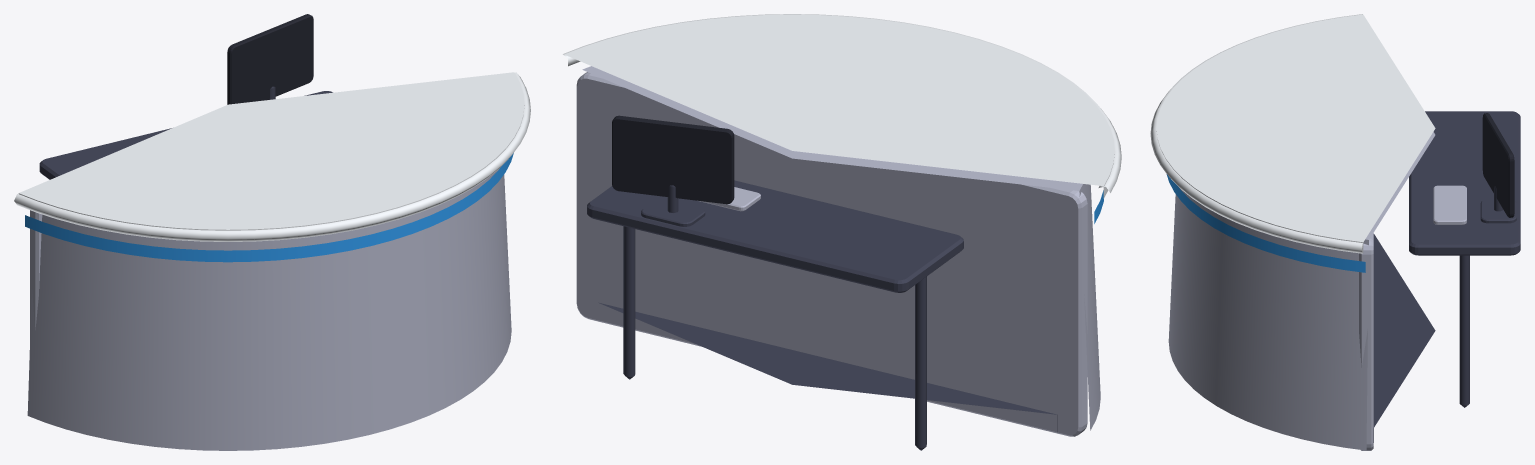
Rendered from reception_desk.glb.
The picture shows the model from 3 angles, left to right: view 1: azimuth 30°, elevation 25°; view 2: azimuth 150°, elevation 25°; view 3: azimuth 270°, elevation 25°; orthographic projection. The views are drawn at different scales.
Parts seen in each view (by area): view 1: desk_body, desk_top, desk_top_bullnose, desk_accent_band, desk_monitor, desk_worktop, desk_back_panel; view 2: desk_back_panel, desk_top, desk_worktop, desk_monitor, desk_kick, desk_body, desk_worktop_leg_l, desk_worktop_leg_r, desk_top_bullnose, desk_monitor_foot, desk_keyboard; view 3: desk_top, desk_body, desk_worktop, desk_kick, desk_top_bullnose, desk_monitor, desk_back_panel, desk_accent_band, desk_worktop_leg_r, desk_keyboard, desk_monitor_foot.
Part boxes in pixels (left/top/right/bottom): desk_body: left=27, top=167, right=511, bottom=450; desk_top: left=18, top=72, right=524, bottom=230; desk_top_bullnose: left=14, top=72, right=530, bottom=241; desk_accent_band: left=25, top=153, right=513, bottom=262; desk_monitor: left=227, top=14, right=313, bottom=104; desk_worktop: left=39, top=91, right=332, bottom=179; desk_back_panel: left=30, top=210, right=42, bottom=339; desk_back_panel: left=576, top=72, right=1087, bottom=436; desk_top: left=564, top=14, right=1114, bottom=198; desk_worktop: left=587, top=180, right=963, bottom=292; desk_monitor: left=612, top=115, right=734, bottom=204; desk_kick: left=598, top=302, right=1057, bottom=432; desk_body: left=582, top=66, right=1100, bottom=430; desk_worktop_leg_l: left=915, top=276, right=926, bottom=450; desk_worktop_leg_r: left=623, top=226, right=635, bottom=379; desk_top_bullnose: left=563, top=14, right=1121, bottom=192; desk_monitor_foot: left=641, top=199, right=705, bottom=226; desk_keyboard: left=697, top=187, right=760, bottom=211; desk_top: left=1156, top=14, right=1435, bottom=252; desk_body: left=1168, top=132, right=1435, bottom=450; desk_worktop: left=1409, top=111, right=1520, bottom=255; desk_kick: left=1373, top=234, right=1435, bottom=442; desk_top_bullnose: left=1150, top=14, right=1363, bottom=253; desk_monitor: left=1482, top=113, right=1514, bottom=217; desk_back_panel: left=1359, top=233, right=1373, bottom=450; desk_accent_band: left=1166, top=174, right=1365, bottom=272; desk_worktop_leg_r: left=1459, top=255, right=1469, bottom=407; desk_keyboard: left=1433, top=185, right=1466, bottom=224; desk_monitor_foot: left=1480, top=199, right=1516, bottom=223.
Size of the model in its own units: 2.27 by 1.13 by 1.52.
